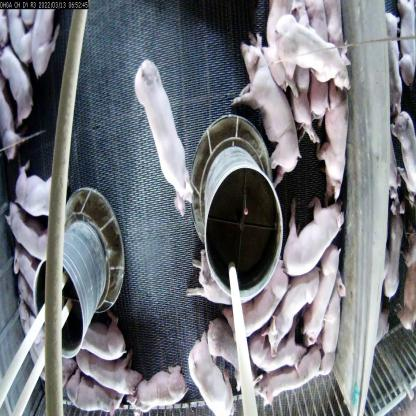Pig: (231, 31, 304, 193), (131, 45, 198, 215), (221, 249, 291, 342), (274, 14, 352, 96), (260, 258, 322, 356), (284, 187, 346, 276), (299, 236, 343, 350), (253, 341, 323, 407), (188, 326, 239, 415), (186, 245, 256, 306), (317, 75, 349, 207), (74, 339, 145, 396), (125, 358, 193, 416), (13, 156, 63, 223), (4, 194, 50, 265), (76, 306, 132, 364), (64, 365, 126, 415), (388, 101, 416, 208), (392, 222, 416, 331), (383, 9, 406, 115), (30, 5, 62, 81), (383, 198, 405, 304)
